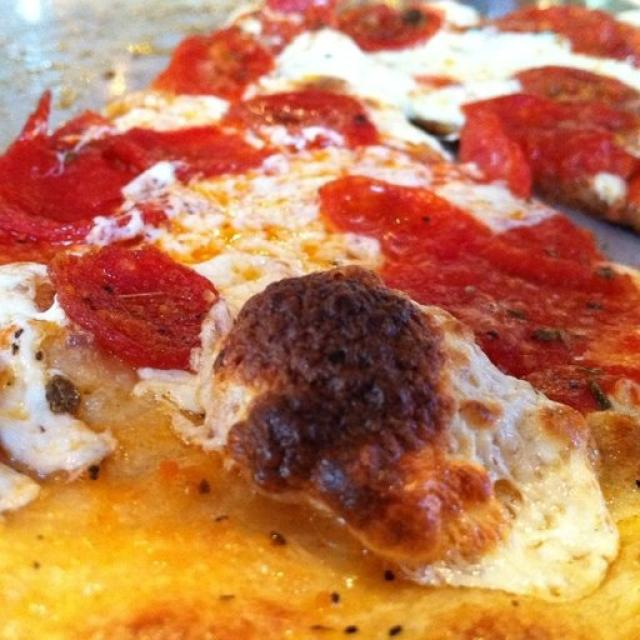Pepperoni: (458, 78, 640, 209), (0, 132, 154, 258), (58, 246, 219, 358), (243, 89, 377, 149), (506, 2, 639, 53), (173, 28, 256, 98), (338, 4, 438, 45)
Pizza: (0, 0, 640, 640)
